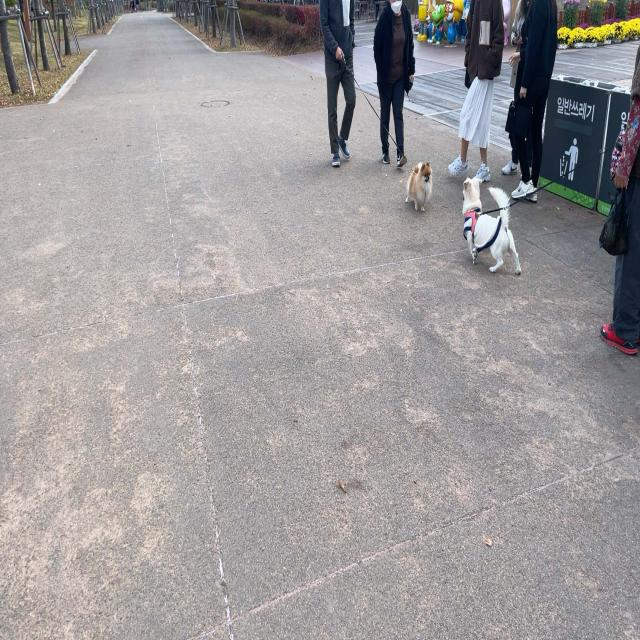Leashed_Dog: (462, 123, 636, 276), (347, 70, 434, 212)
